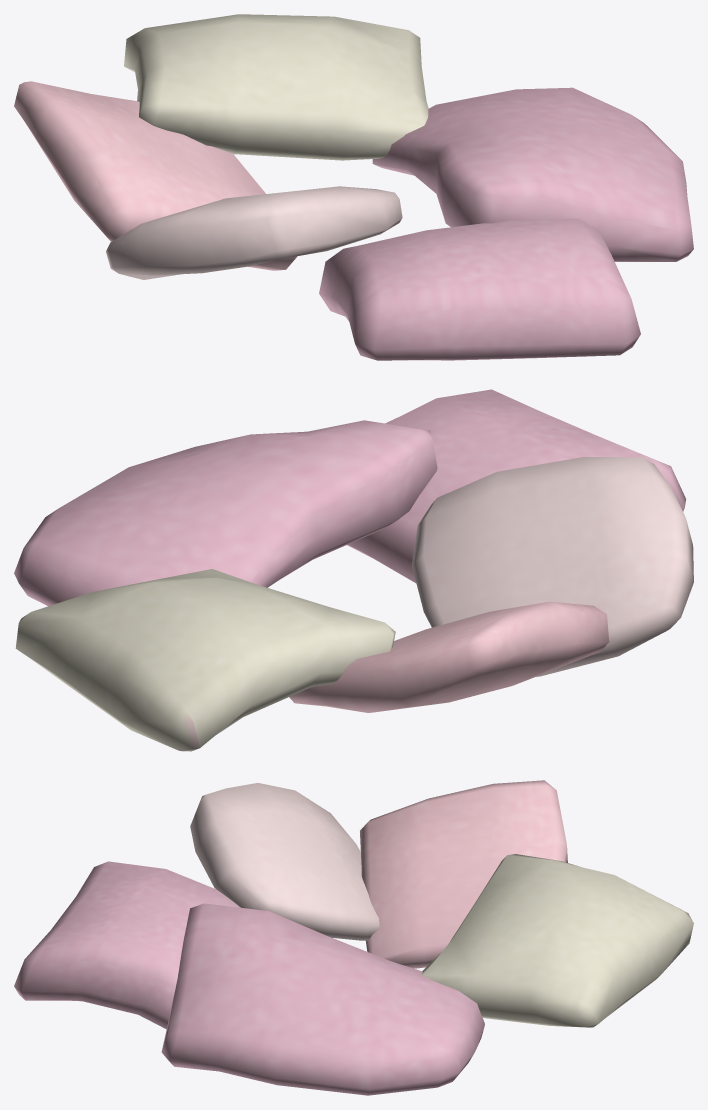
The model's file is SM_Cat_Portal_1.fbx.
3 renders of one model, top to bottom at view 1: azimuth 30°, elevation 25°; view 2: azimuth 150°, elevation 25°; view 3: azimuth 270°, elevation 25°, orthographic. The views are drawn at different scales.
Visible parts, largest first — view 1: SM_Cat_Portal_1; view 2: SM_Cat_Portal_1; view 3: SM_Cat_Portal_1.
Boxes of the visible parts, box(x1,y1,x2,y2) form: SM_Cat_Portal_1: box(14, 14, 693, 360); SM_Cat_Portal_1: box(14, 389, 693, 751); SM_Cat_Portal_1: box(14, 780, 693, 1095).
Size of the model in its own units: 105 by 28.34 by 128.
